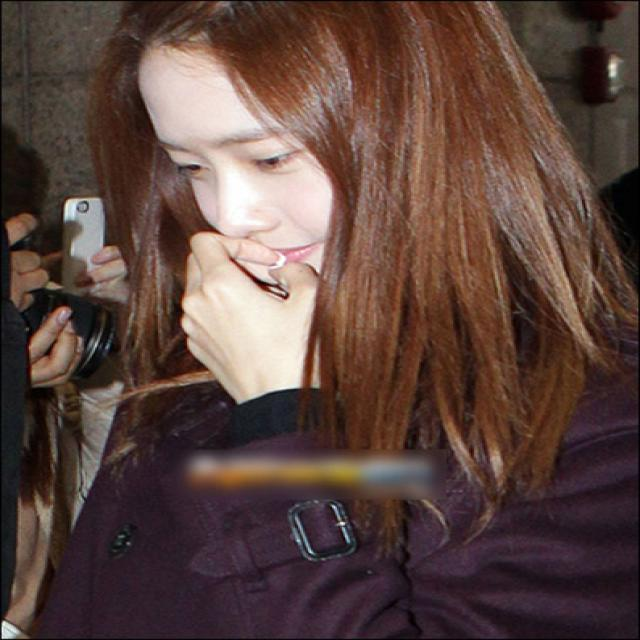nomask: (155, 57, 342, 306)
